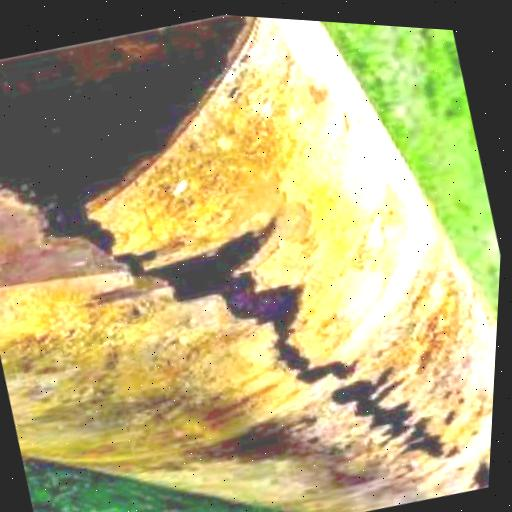corrosion: (0, 15, 497, 512)
crack: (160, 220, 354, 384), (331, 367, 444, 458), (277, 342, 300, 360)
